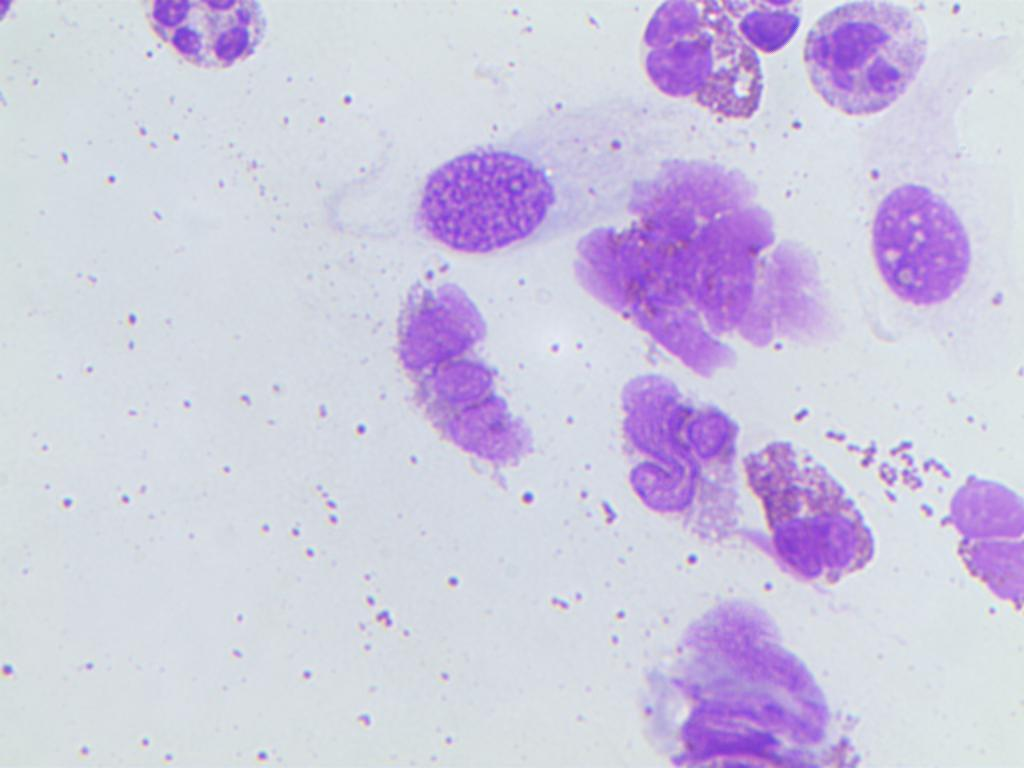artifact: (557, 146, 832, 378), (623, 598, 873, 768), (613, 362, 743, 564)
eosinophil: (365, 261, 553, 501), (798, 0, 957, 137), (613, 0, 800, 116), (751, 432, 876, 588), (933, 464, 1024, 647)
epithelial: (833, 159, 996, 334), (412, 115, 580, 261)
goblet_cell: (114, 0, 282, 83)
